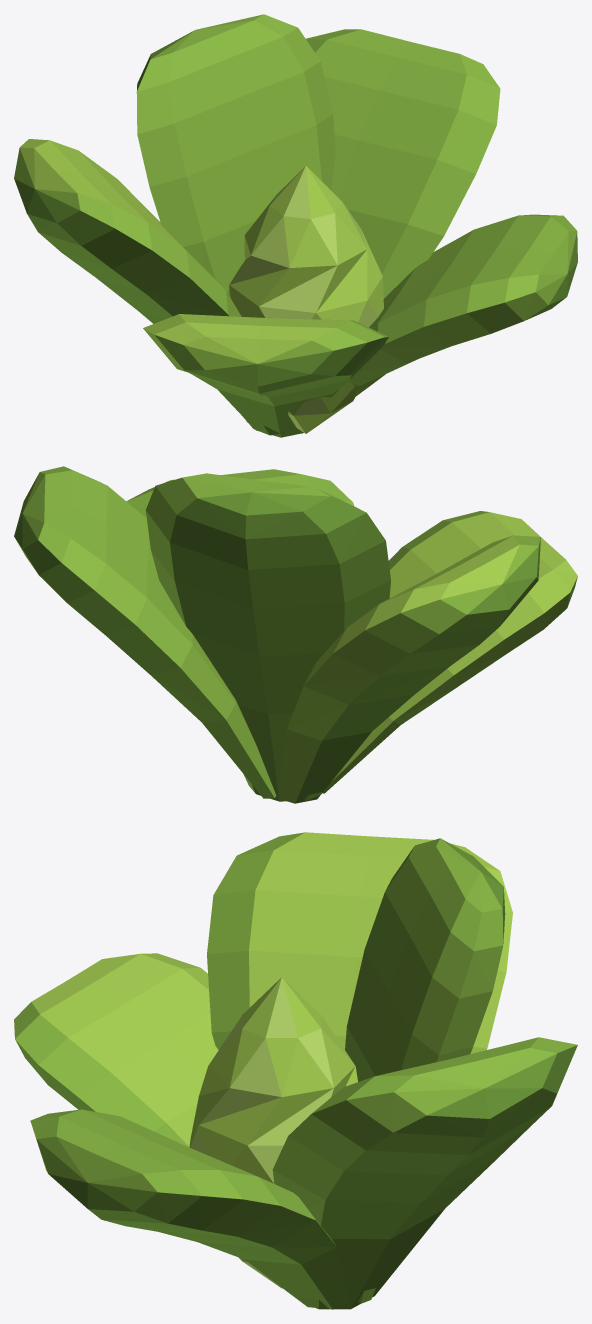
File: FMS_Crop_Cabbage_S2.fbx
The picture shows the model from 3 angles, top to bottom: view 1: azimuth 30°, elevation 25°; view 2: azimuth 150°, elevation 25°; view 3: azimuth 270°, elevation 25°; orthographic projection. The views are drawn at different scales.
Visible parts, largest first — view 1: FMS_Crop_Cabbage_S2; view 2: FMS_Crop_Cabbage_S2; view 3: FMS_Crop_Cabbage_S2.
Boxes of the visible parts, left/top/right/bottom form: FMS_Crop_Cabbage_S2: left=14, top=14, right=577, bottom=437; FMS_Crop_Cabbage_S2: left=14, top=466, right=577, bottom=803; FMS_Crop_Cabbage_S2: left=14, top=832, right=577, bottom=1309.
Bounding box in the file's own units: 0.3629 × 0.2648 × 0.3281.
